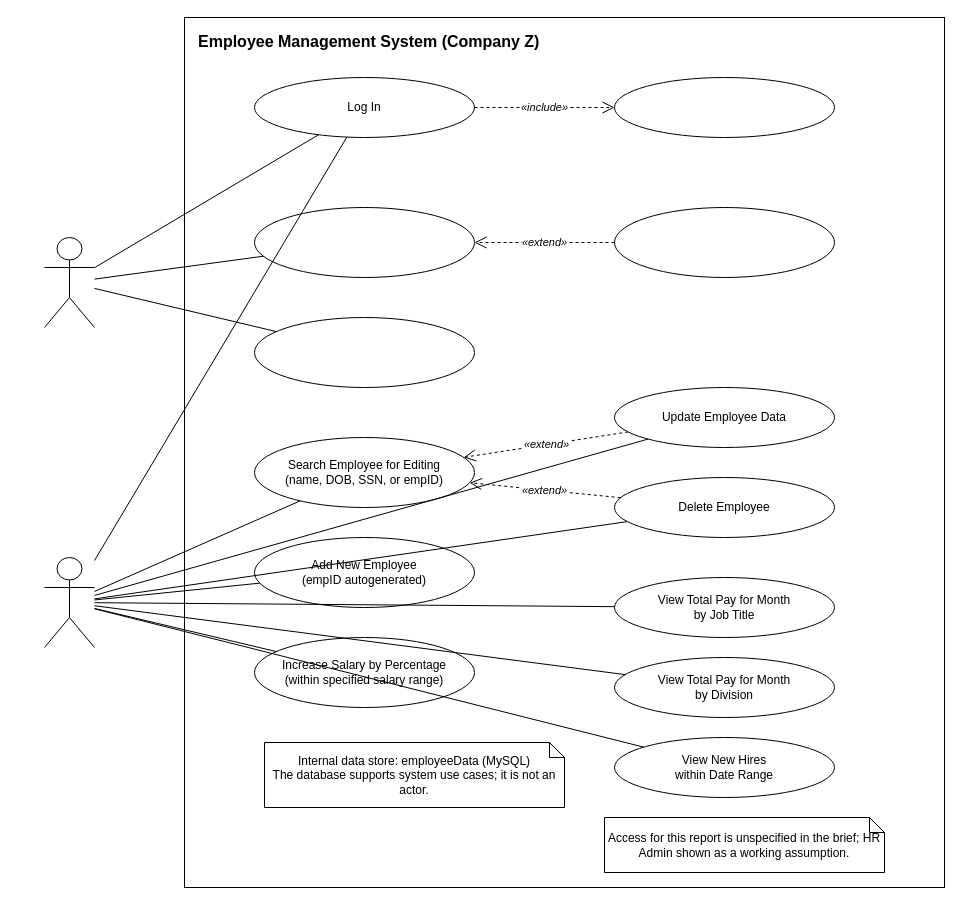
The diagram is 962 pixels wide and 905 high, and some of its shapes have lost their labels. The centre of each missing label's shape, as x and y in pixels:
"Display Employee Not Found Error [no matching employee]" goes at point 724,242.
"General Employee" goes at point 69,282.
"HR Admin" goes at point 69,602.
"Search and View Own Data (empID, name, DOB, or SSN)" goes at point 364,242.
"Verify Credentials and Role" goes at point 724,107.
"View Pay Statement History (most recent pay date first)" goes at point 364,352.
